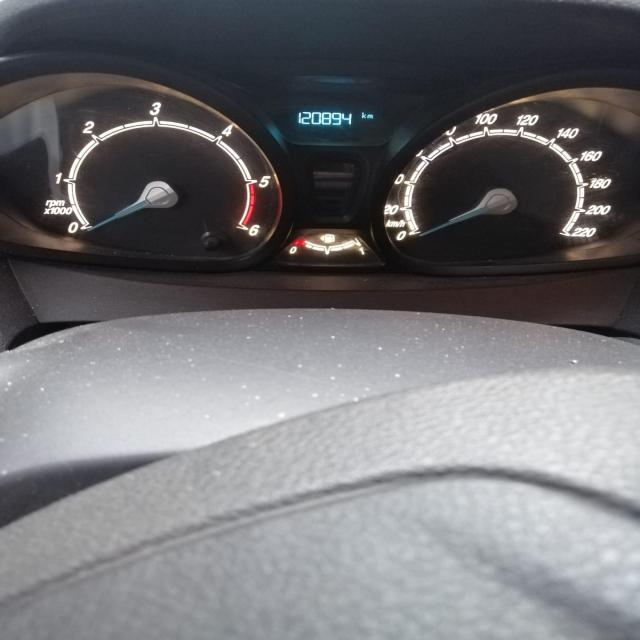odometer: (283, 100, 384, 140)
